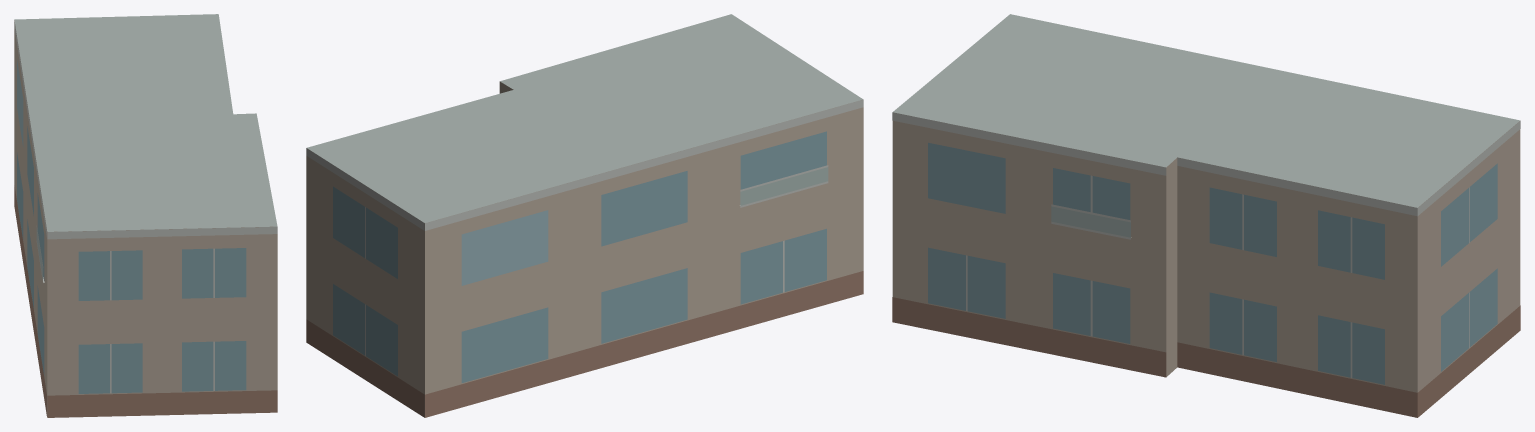
The model's file is survey-upis-32478239.glb.
3 renders of one model, left to right at view 1: azimuth 30°, elevation 25°; view 2: azimuth 150°, elevation 25°; view 3: azimuth 270°, elevation 25°, orthographic. The views are drawn at different scales.
Visible parts, largest first — view 1: survey-upis-32478239.tmp; view 2: survey-upis-32478239.tmp; view 3: survey-upis-32478239.tmp.
Boxes of the visible parts, x1,y1,x2,y2 form: survey-upis-32478239.tmp: [14, 14, 277, 417]; survey-upis-32478239.tmp: [306, 14, 863, 417]; survey-upis-32478239.tmp: [892, 14, 1520, 417].
Size of the model in its own units: 12.09 by 6.1 by 16.55.
